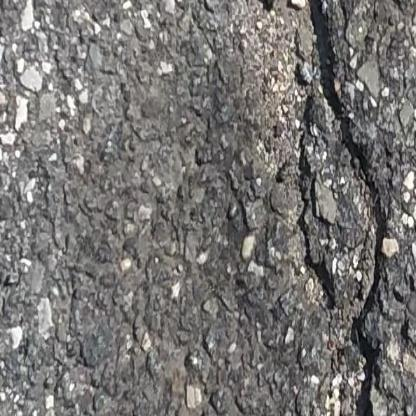Cracks: (244, 0, 391, 416)
